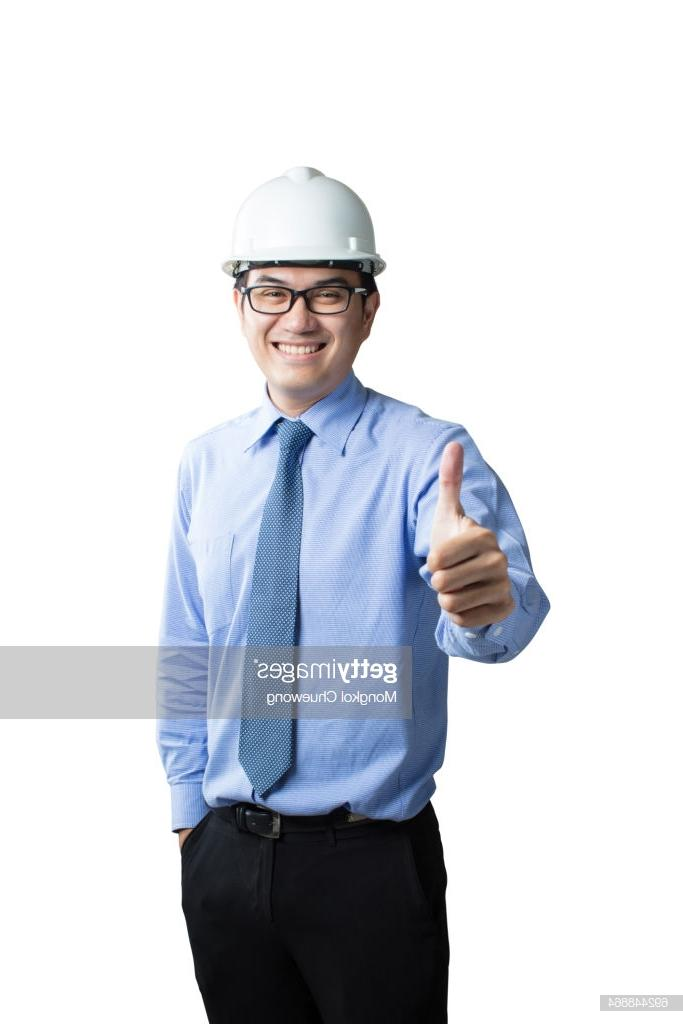thumbsup: (426, 441, 516, 627)
